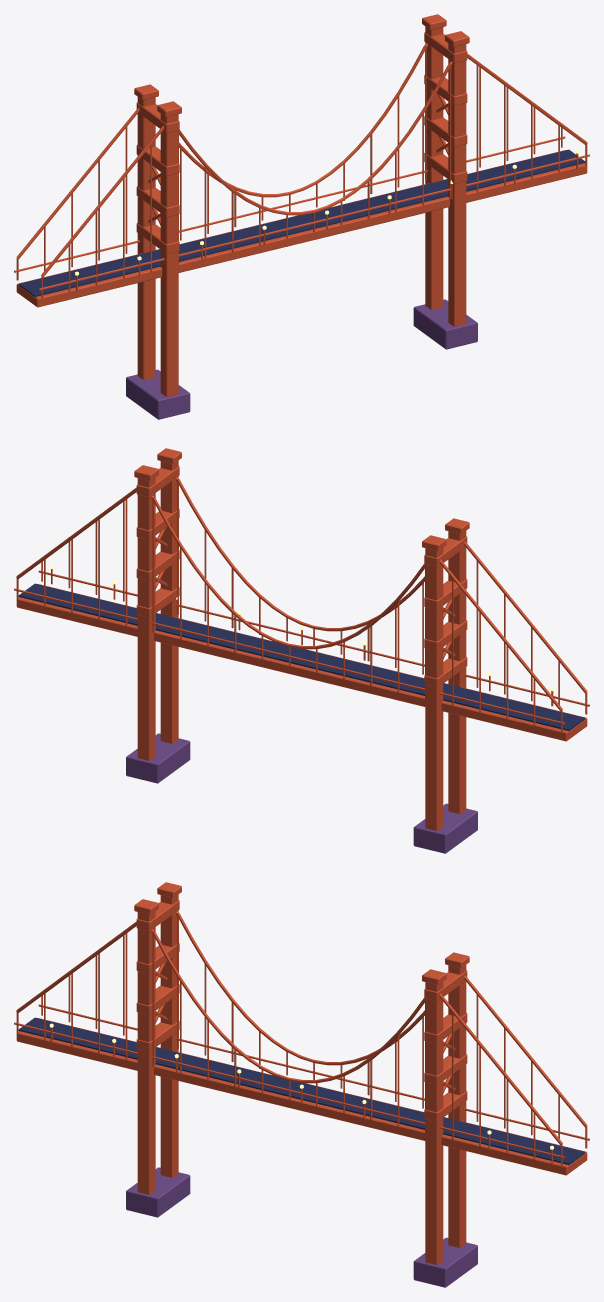
File: sfv2_golden_gate.glb
3 renders of one model, top to bottom at view 1: azimuth 30°, elevation 25°; view 2: azimuth 150°, elevation 25°; view 3: azimuth 330°, elevation 25°, orthographic.
Visible parts, largest first — view 1: sfv2_golden_gate__sf_bridge_vermilion, sfv2_golden_gate__sf_midnight_blue, sfv2_golden_gate__sf_violet_stucco; view 2: sfv2_golden_gate__sf_bridge_vermilion, sfv2_golden_gate__sf_midnight_blue, sfv2_golden_gate__sf_violet_stucco; view 3: sfv2_golden_gate__sf_bridge_vermilion, sfv2_golden_gate__sf_midnight_blue, sfv2_golden_gate__sf_violet_stucco.
Boxes of the visible parts, x1=… form: sfv2_golden_gate__sf_bridge_vermilion: x1=14, y1=14, x2=589, y2=396; sfv2_golden_gate__sf_midnight_blue: x1=18, y1=149, x2=585, y2=297; sfv2_golden_gate__sf_violet_stucco: x1=126, y1=299, x2=477, y2=419; sfv2_golden_gate__sf_bridge_vermilion: x1=14, y1=448, x2=589, y2=830; sfv2_golden_gate__sf_midnight_blue: x1=18, y1=583, x2=585, y2=731; sfv2_golden_gate__sf_violet_stucco: x1=126, y1=733, x2=477, y2=853; sfv2_golden_gate__sf_bridge_vermilion: x1=14, y1=882, x2=589, y2=1264; sfv2_golden_gate__sf_midnight_blue: x1=18, y1=1017, x2=585, y2=1165; sfv2_golden_gate__sf_violet_stucco: x1=126, y1=1167, x2=477, y2=1287.
Bounding box in the file's own units: 122 × 65.02 × 12.48.
